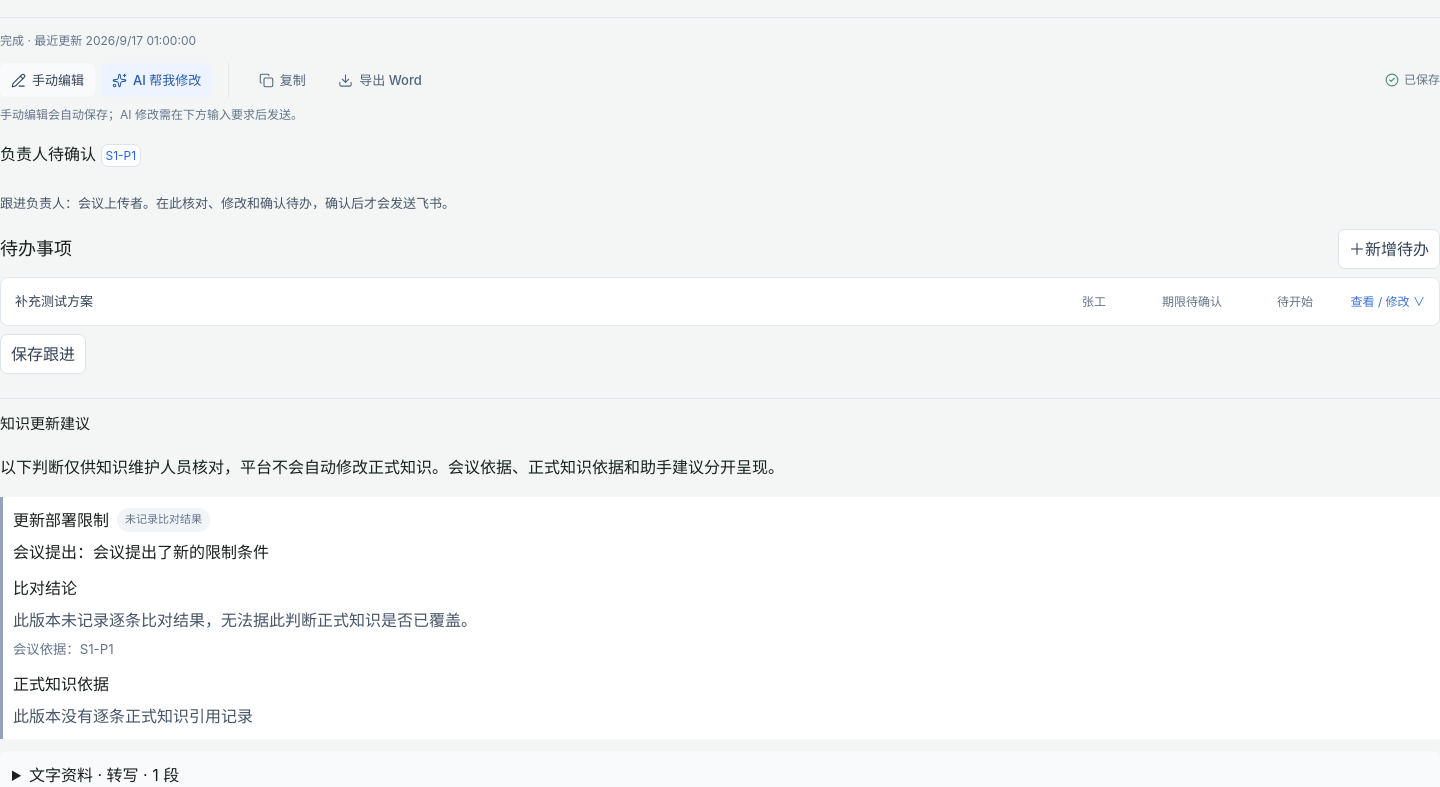
meeting results › allows correcting a delivered task owner before sending it again
Step 1. Click the heading "补充测试方案 张工 期限待确认 待开始 查看 / 修改 ∨" → [54, 301], box x1=15 y1=293 x2=1425 y2=309
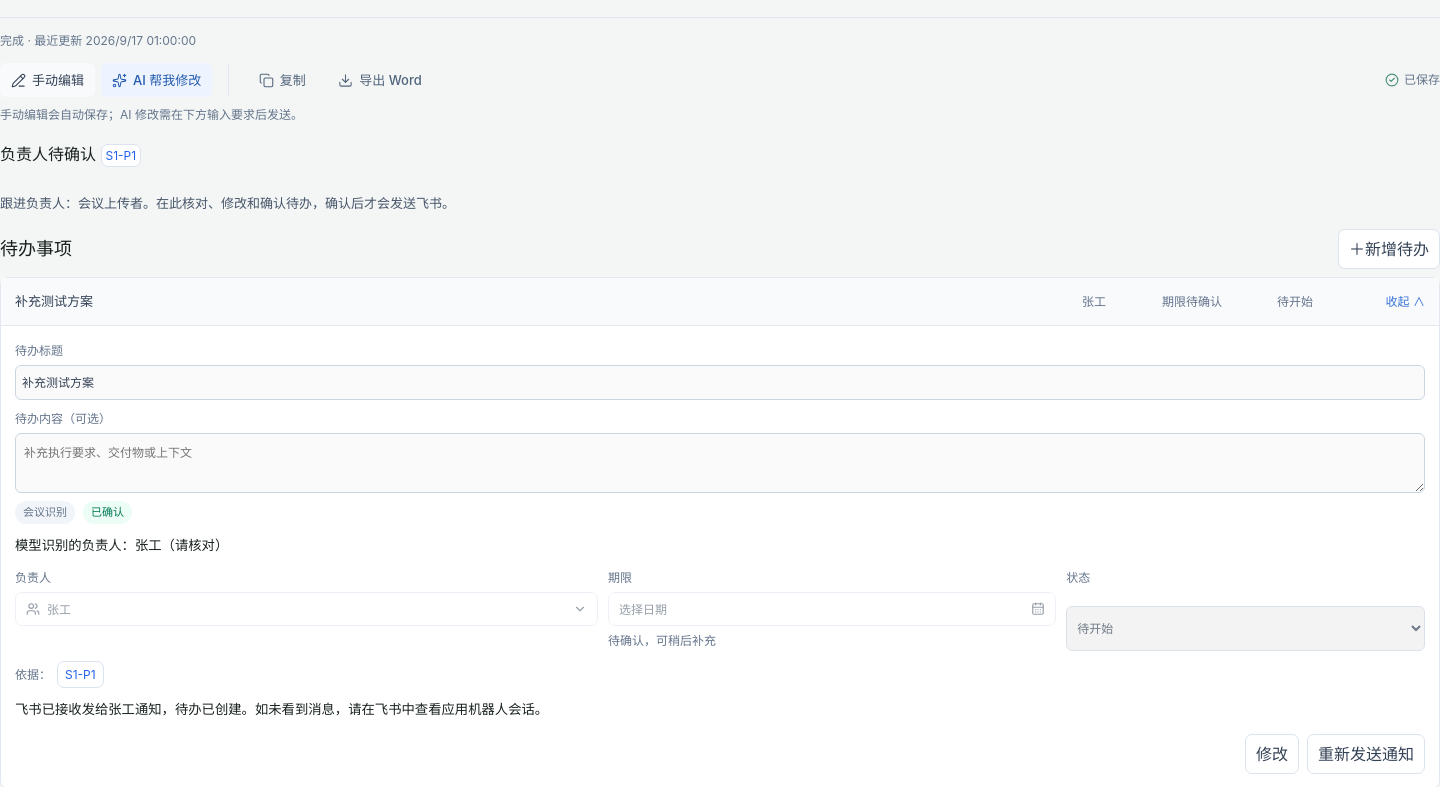
Step 2. Click the button "修改" → [1272, 754], box x1=1245 y1=734 x2=1299 y2=774
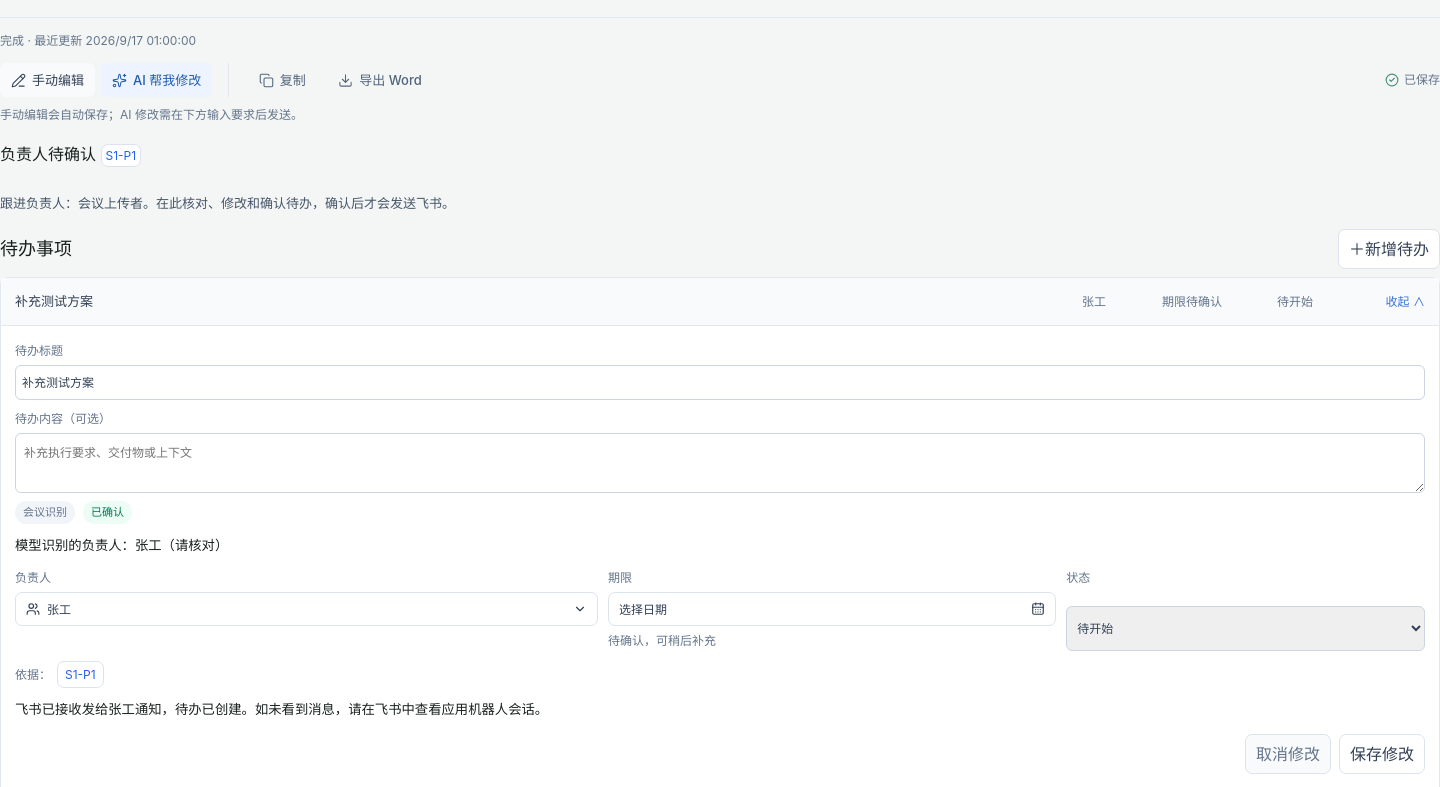
Step 3. Click the button with aria-label "负责人：张工" → [33, 609], box x1=15 y1=592 x2=598 y2=626
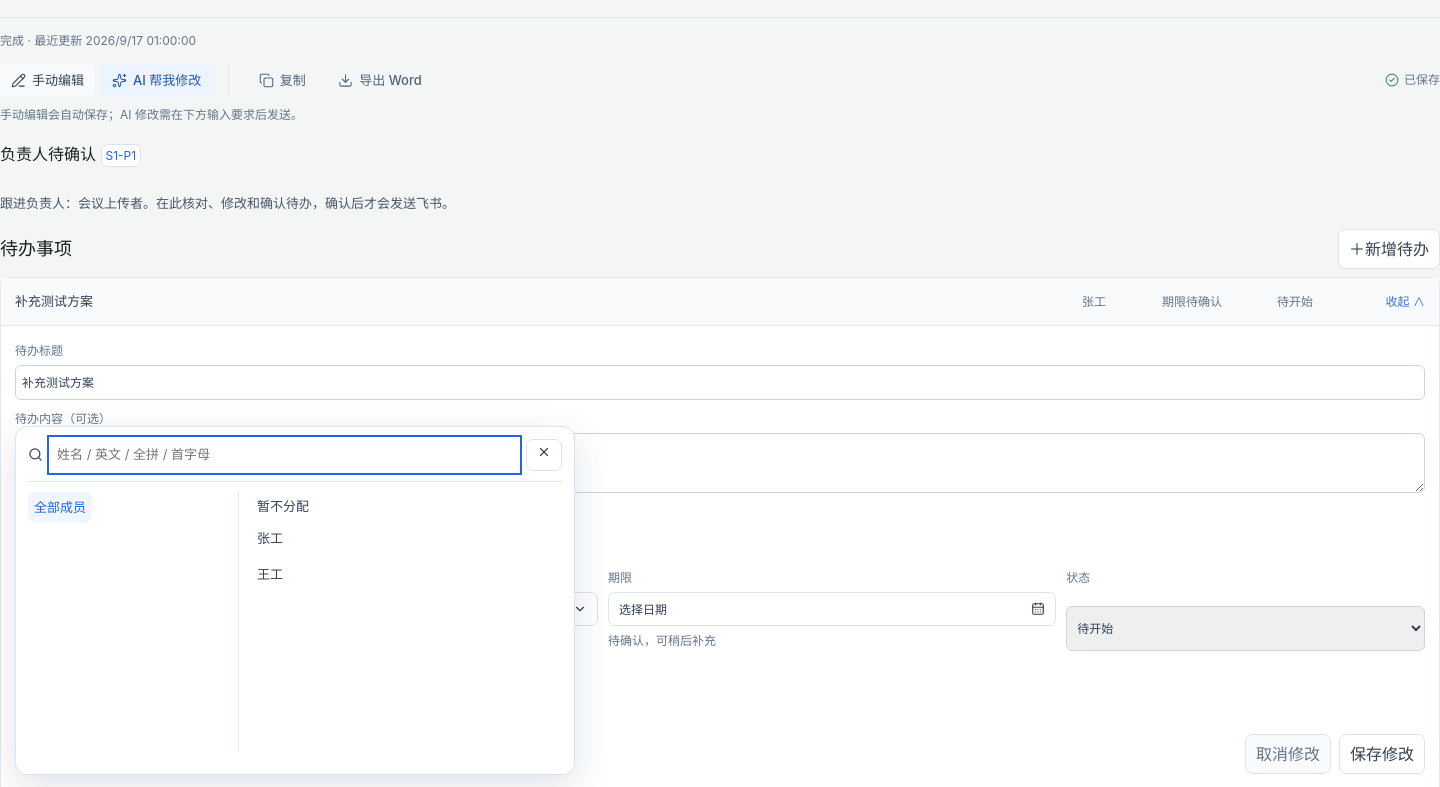
Result: the button "王工" is shown
Step 4. Click the button "王工" → [270, 574], box x1=247 y1=560 x2=562 y2=592
(page scrolled)
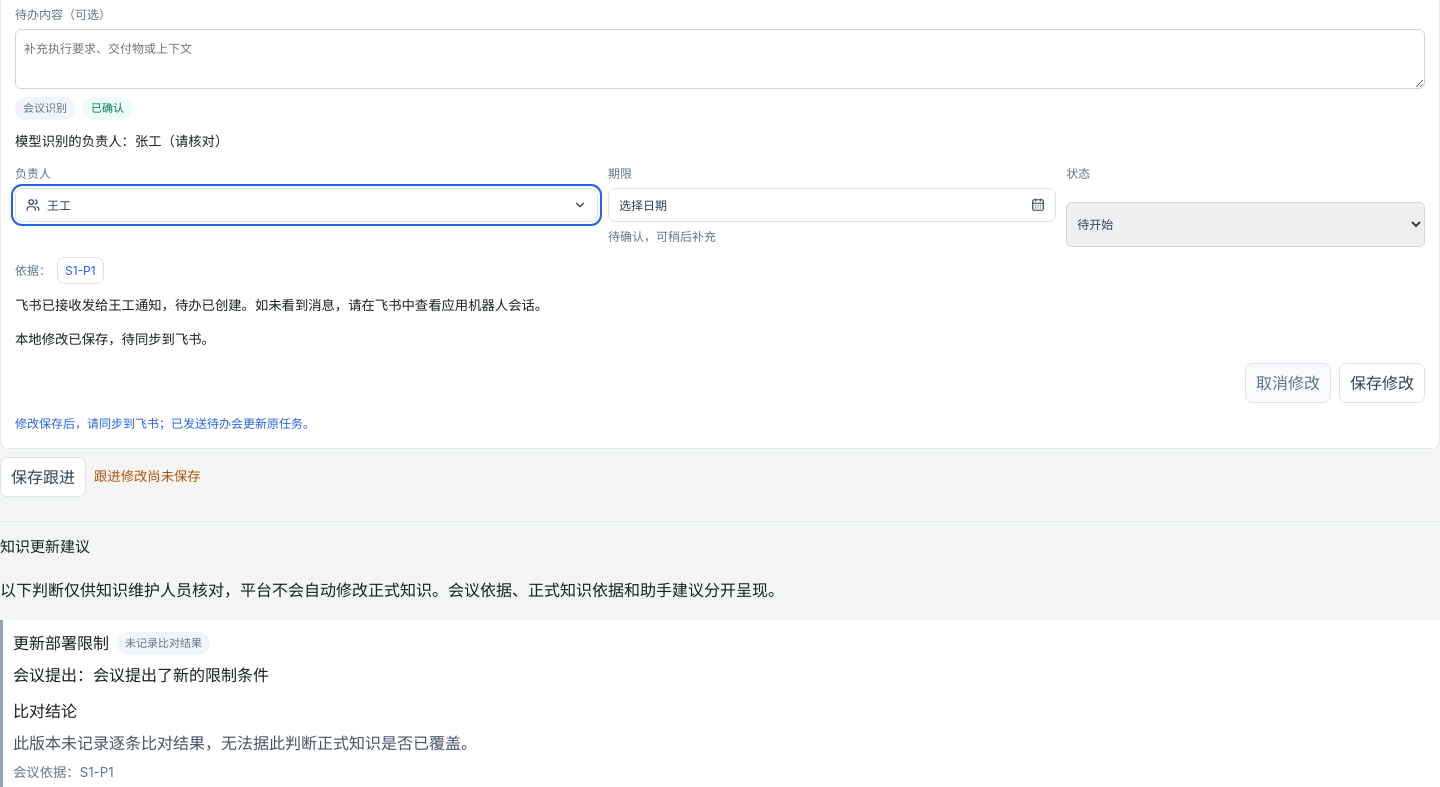
Step 5. Click the button "保存修改" → [1382, 383], box x1=1339 y1=363 x2=1425 y2=403
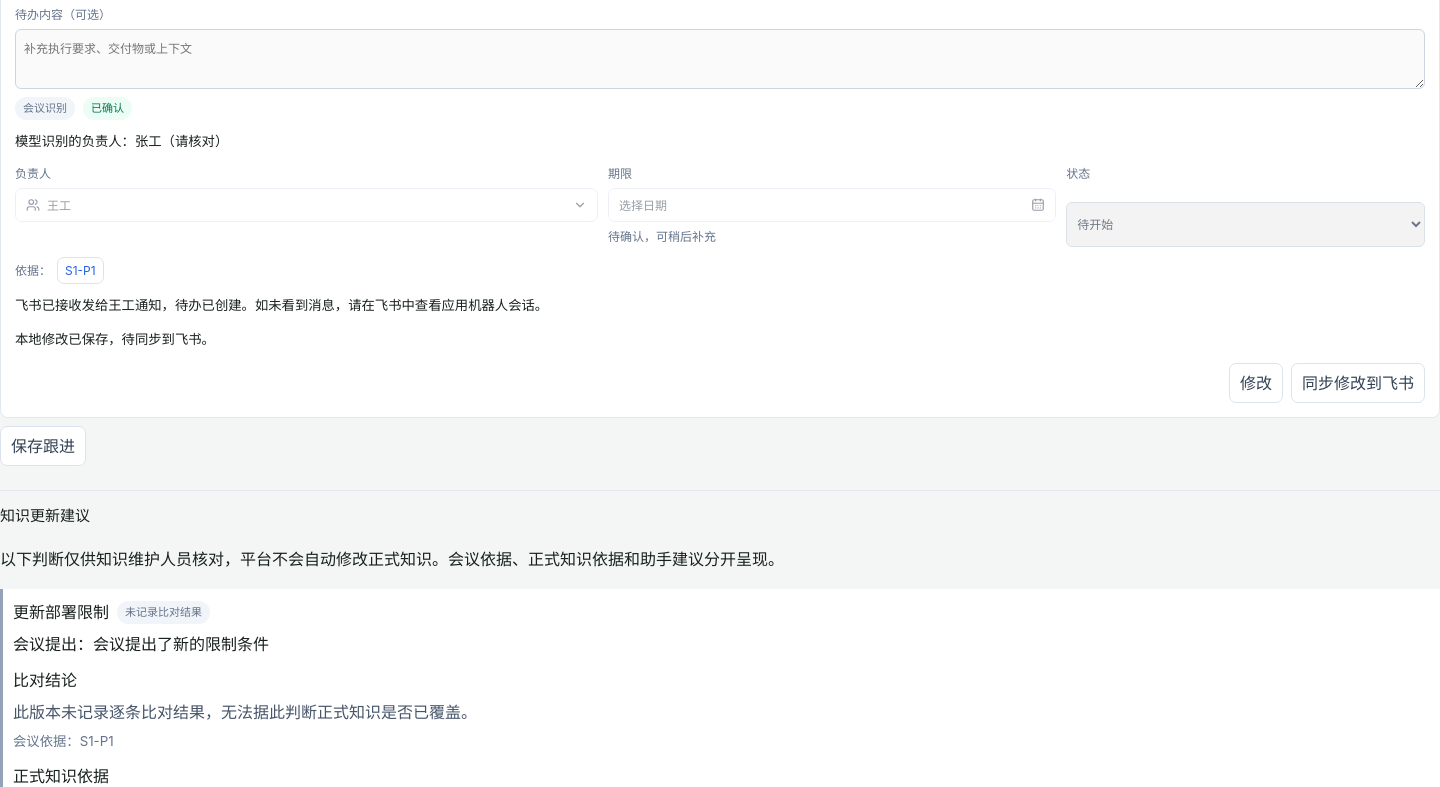
Result: the button "同步修改到飞书" is shown at x1=1291 y1=363 x2=1425 y2=403
